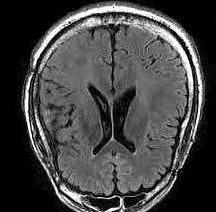Normal_Brain: (13, 1, 216, 212)
